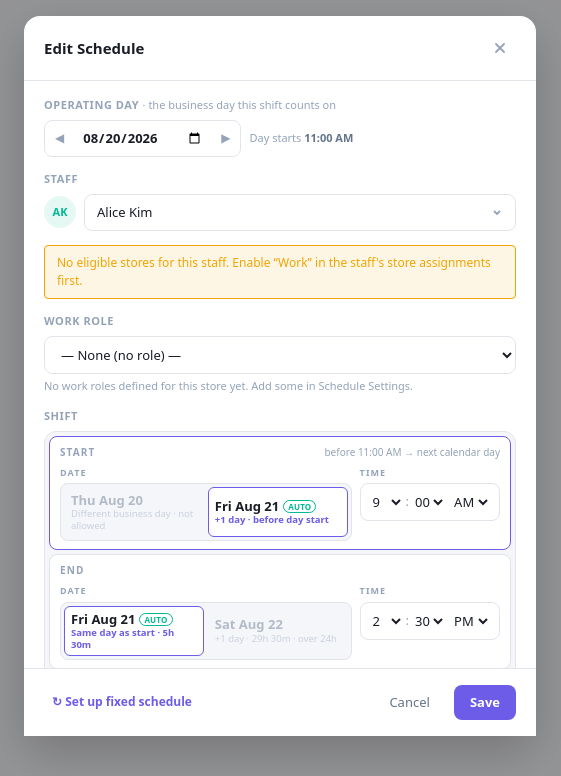
ScheduleEditModal — 시작 달력일 › 반대 방향도 따라온다 — 17:00 → 09:00 이면 다시 +1일
Select "5" in the dropdown named "Hour" below "before 11:00 AM → next calendar day" at (386, 502), box [369,492,404,512]
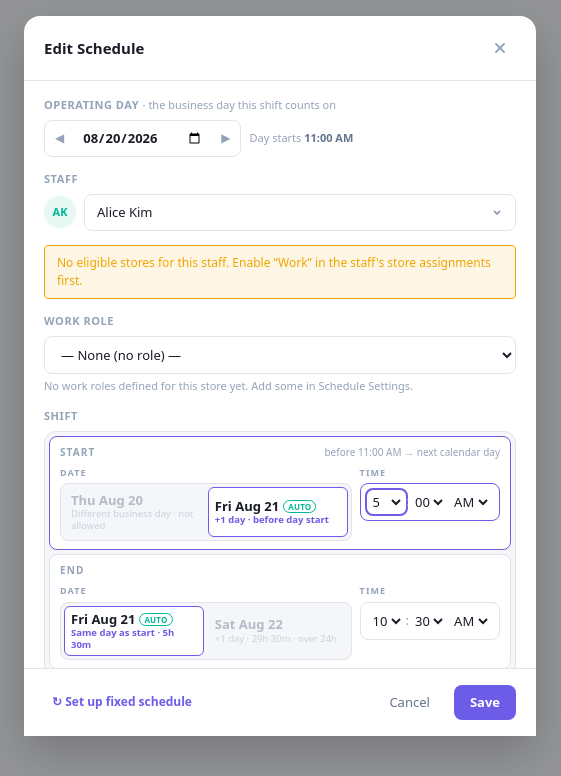
Select "PM" in the dropdown named "AM/PM" below "before 11:00 AM → next calendar day" at (471, 502), box [450,492,491,512]
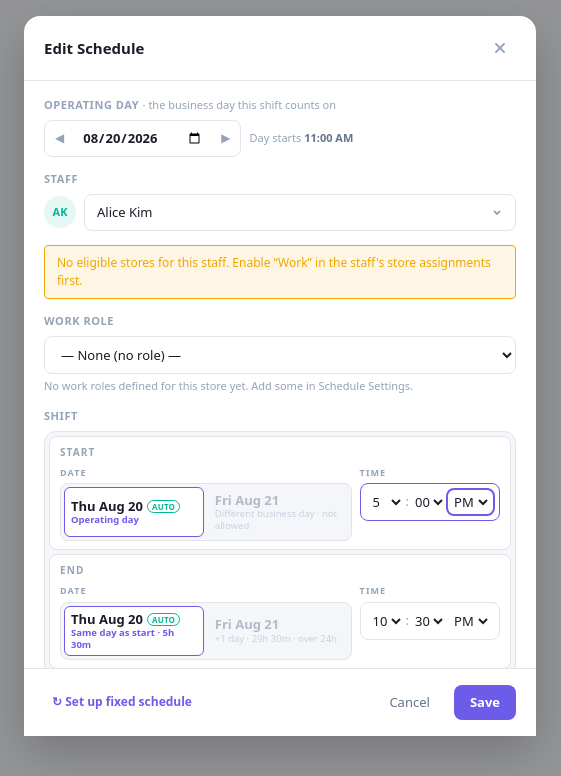
Select "9" in the 1st dropdown named "Hour" at (386, 502), box [369,492,404,512]
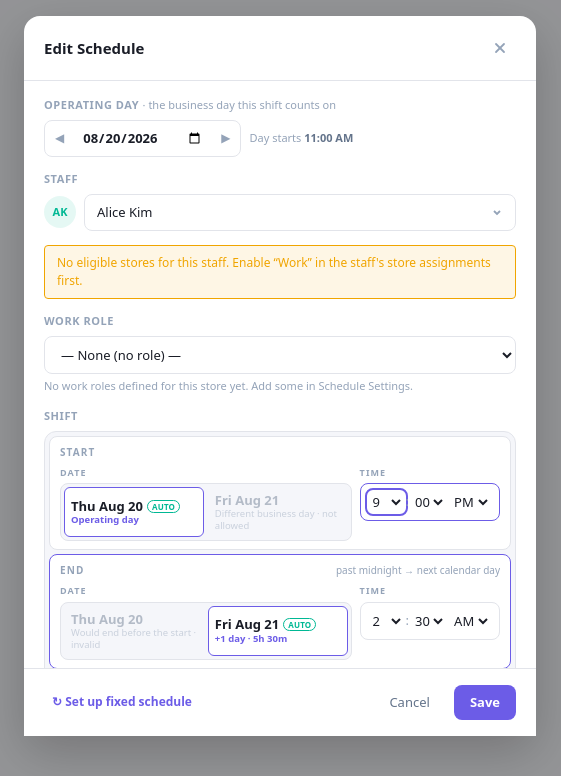
Select "AM" in the 1st dropdown named "AM/PM" at (471, 502), box [450,492,491,512]
(page scrolled)
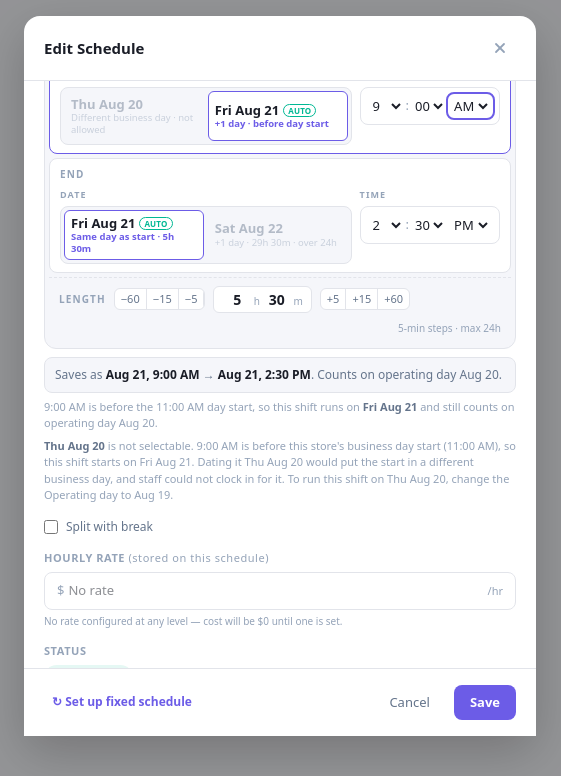
Expected: the text "Saves as" shows "Aug 21, 9:00 AM", [106,366,200,382]
